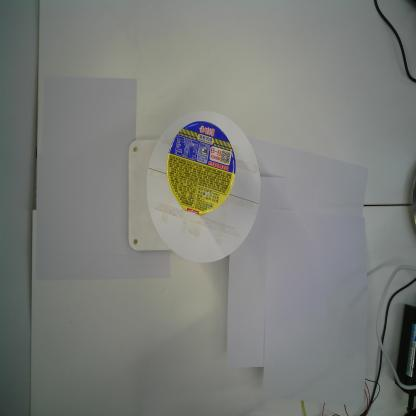Instant Noodles: (166, 119, 236, 217)
